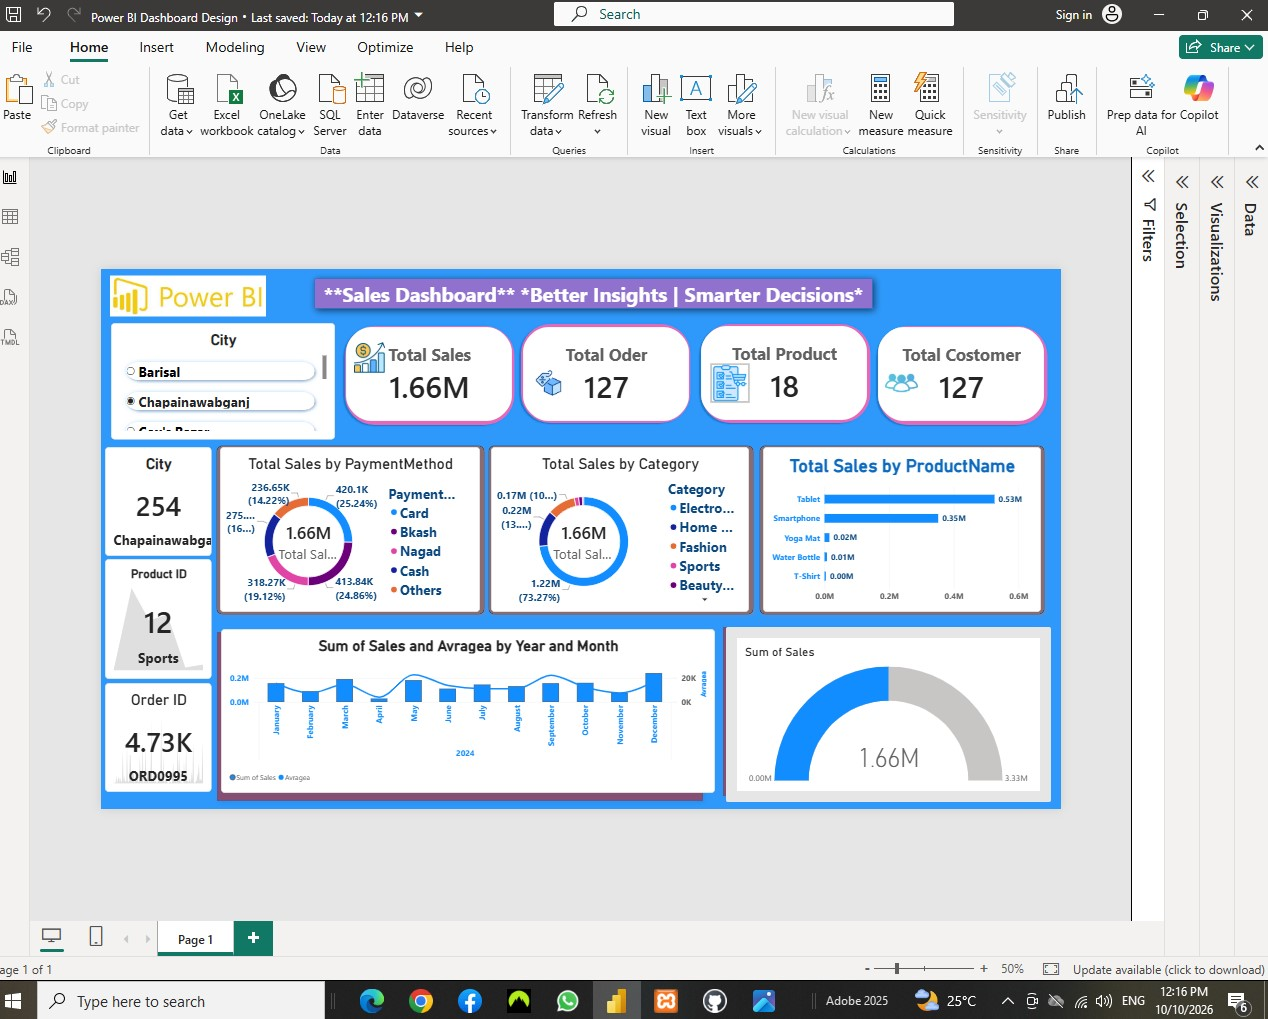

What the dashboard file says about the page in this screenshot:
{"tool":"powerbi","page":{"name":"Page 1","canvas":[1920,1080],"ordinal":0},"visuals":[{"type":"shape","box":[1228,700,668,370],"z":2000},{"type":"shape","box":[216,710,1004,370],"z":3000},{"type":"cardVisual","fields":{"Data":["Sales.Total Costomer"]},"box":[1554.6,116.3,332,188],"z":4000,"group":"g1"},{"type":"shape","box":[1308,344,588,356],"z":4000},{"type":"cardVisual","fields":{"Data":["Products(1).Total Product"]},"box":[1199.8,114,332,188],"z":5000,"group":"g1"},{"type":"shape","box":[766,344,548,356],"z":5000},{"type":"shape","box":[222,344,554,356],"z":6000},{"type":"shape","box":[832,102,354.9,213.8],"z":7000},{"type":"shape","box":[1546,106,354.9,213.8],"z":8000},{"type":"shape","box":[1192,102,354.9,213.8],"z":9000},{"type":"shape","box":[480,106,354.9,213.8],"z":10000},{"type":"cardVisual","fields":{"Data":["Sales.Total Sales"]},"box":[490,116.3,332,188],"z":11000,"group":"g1"},{"type":"donutChart","fields":{"Category":["Sales.PaymentMethod"],"Y":["Sales.Total Sales"]},"box":[238,356,520,330],"z":11000},{"type":"cardVisual","fields":{"Data":["Sales.Total Oder"]},"box":[844.9,116.3,332,188],"z":12000,"group":"g1"},{"type":"donutChart","fields":{"Category":["Products(1).Category"],"Y":["Sales.Total Sales"]},"box":[780,356,516,330],"z":12000},{"type":"barChart","fields":{"Category":["Products(1).ProductName"],"Y":["Sales.Total Sales"]},"box":[1324,356,556,330],"z":13000},{"type":"lineStackedColumnComboChart","fields":{"Category":["Sales.Date.Variation.Date Hierarchy.Year","Sales.Date.Variation.Date Hierarchy.Month"],"Y":["Sum(Sales.Sales)"],"Y2":["Sales.Avragea"]},"box":[240,720,988,328],"z":14000},{"type":"gauge","fields":{"Y":["Sum(Sales.Sales)"]},"box":[1250,715,650,350],"z":15000},{"type":"group","id":"g1","title":"Group 1","box":[490,114,1396,190],"z":16000},{"type":"listSlicer","fields":{"Values":["Sales.City"]},"box":[20,108.3,448.3,233.3],"z":17000},{"type":"image","box":[18,0,312,108],"z":18000},{"type":"shape","box":[408,0,1154,98],"z":19000},{"type":"image","box":[490,146,94,62],"z":20000},{"type":"image","box":[1220,190,76,76],"z":21000},{"type":"image","box":[1568,190,66,76],"z":22000},{"type":"image","box":[844,190,102,76],"z":23000},{"type":"kpi","title":" City","fields":{"Indicator":["Sum(Sales.Quantity)"],"TrendLine":["Sales.City"]},"box":[8,356,213.3,218.3],"z":23001},{"type":"kpi","title":" Product ID ","fields":{"Indicator":["CountNonNull(Sales.ProductID)"],"TrendLine":["Products(1).Category"]},"box":[8,580,213.3,240],"z":23002},{"type":"kpi","title":" Order ID","fields":{"Indicator":["Sum(Sales.Sales)"],"TrendLine":["Sales.OrderID"]},"box":[8,828,213.3,218.3],"z":23003}]}

Visuals, with their boxes on the page's 1920x1080 design canvas (x1, y1, x2, y2). These are canvas units, not pixel positions in the 1268x1019 screenshot, which may show the page scaled, cropped or inside an application window:
shape: x1=1228, y1=700, x2=1896, y2=1070
shape: x1=216, y1=710, x2=1220, y2=1080
cardVisual - Sales.Total Costomer: x1=1555, y1=116, x2=1887, y2=304
shape: x1=1308, y1=344, x2=1896, y2=700
cardVisual - Products(1).Total Product: x1=1200, y1=114, x2=1532, y2=302
shape: x1=766, y1=344, x2=1314, y2=700
shape: x1=222, y1=344, x2=776, y2=700
shape: x1=832, y1=102, x2=1187, y2=316
shape: x1=1546, y1=106, x2=1901, y2=320
shape: x1=1192, y1=102, x2=1547, y2=316
shape: x1=480, y1=106, x2=835, y2=320
cardVisual - Sales.Total Sales: x1=490, y1=116, x2=822, y2=304
donutChart - Sales.PaymentMethod x Sales.Total Sales: x1=238, y1=356, x2=758, y2=686
cardVisual - Sales.Total Oder: x1=845, y1=116, x2=1177, y2=304
donutChart - Products(1).Category x Sales.Total Sales: x1=780, y1=356, x2=1296, y2=686
barChart - Products(1).ProductName x Sales.Total Sales: x1=1324, y1=356, x2=1880, y2=686
lineStackedColumnComboChart - Sales.Date.Variation.Date Hierarchy.Year x Sales.Date.Variation.Date Hierarchy.Month: x1=240, y1=720, x2=1228, y2=1048
gauge - Sum(Sales.Sales): x1=1250, y1=715, x2=1900, y2=1065
"Group 1" group: x1=490, y1=114, x2=1886, y2=304
listSlicer - Sales.City: x1=20, y1=108, x2=468, y2=342
image: x1=18, y1=0, x2=330, y2=108
shape: x1=408, y1=0, x2=1562, y2=98
image: x1=490, y1=146, x2=584, y2=208
image: x1=1220, y1=190, x2=1296, y2=266
image: x1=1568, y1=190, x2=1634, y2=266
image: x1=844, y1=190, x2=946, y2=266
" City" kpi: x1=8, y1=356, x2=221, y2=574
" Product ID " kpi: x1=8, y1=580, x2=221, y2=820
" Order ID" kpi: x1=8, y1=828, x2=221, y2=1046
